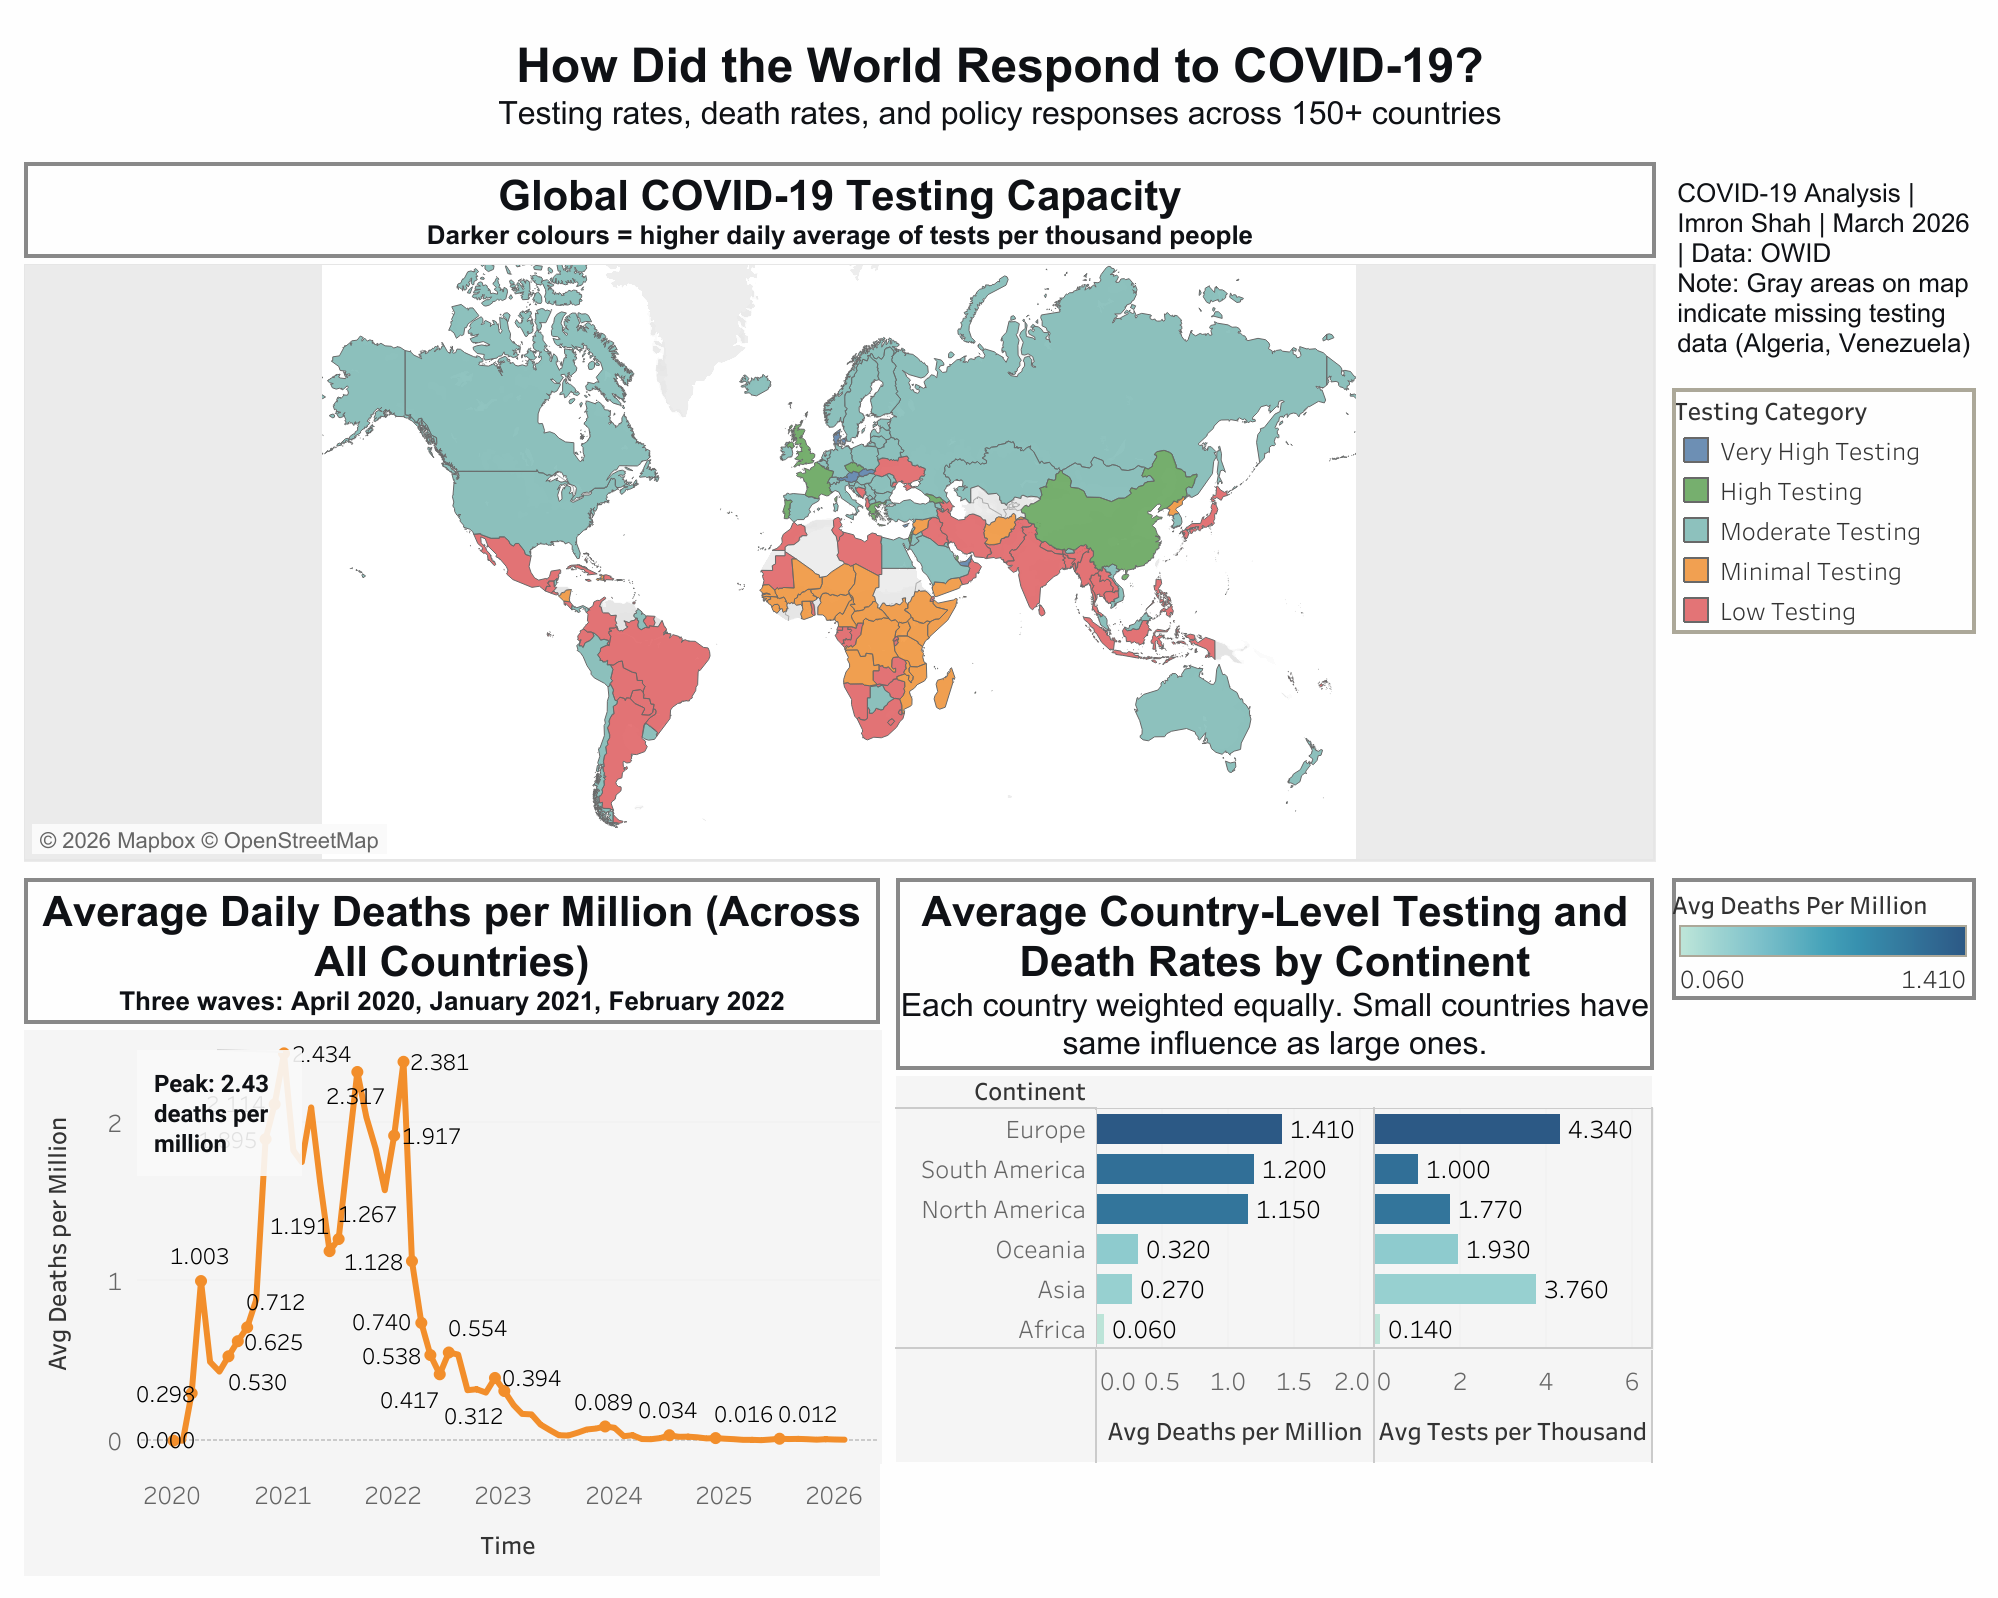

The dashboard page shown, as its layout file describes it:
{"tool":"tableau","page":{"name":"COVID-19 Global Analysis","canvas":[1000,800],"ordinal":0},"visuals":[{"type":"text","box":[8,8,984,69]},{"type":"worksheet","title":"Global Testing Map","mark":"Multipolygon","box":[8,77,824,357.5]},{"type":"text","box":[832,77,160,113]},{"type":"legend","title":"Global Testing Map","param":"[federated.1wib3zw1oklfm51ac0tal16d5sgc].[none:testing_category:nk]","box":[832,190,160,133]},{"type":"worksheet","title":"Global Deaths Timeline","mark":"Line","rows":["avg_deaths_per_million"],"cols":["month"],"box":[8,434.5,436,357.5]},{"type":"worksheet","title":"Continent Comparison","mark":"Bar","rows":["continent"],"cols":["avg_deaths_per_million (continent_summary.csv)","avg_tests_per_thousand"],"box":[444,434.5,388,357.5]},{"type":"legend","title":"Continent Comparison","param":"[federated.1wib3zw1oklfm51ac0tal16d5sgc].[sum:avg_deaths_per_million (continent_","box":[832,434.5,160,69]}]}

Visuals, with their boxes in screenshot pixels (x1, y1, x2, y2), scaled from the page's 1000x800 canvas onto the 1998x1598 screenshot:
text: [left=16, top=16, right=1982, bottom=154]
"Global Testing Map" worksheet (Multipolygon marks): [left=16, top=154, right=1662, bottom=868]
text: [left=1662, top=154, right=1982, bottom=380]
"Global Testing Map" legend: [left=1662, top=380, right=1982, bottom=645]
"Global Deaths Timeline" worksheet (Line marks): [left=16, top=868, right=887, bottom=1582]
"Continent Comparison" worksheet (Bar marks): [left=887, top=868, right=1662, bottom=1582]
"Continent Comparison" legend: [left=1662, top=868, right=1982, bottom=1006]
